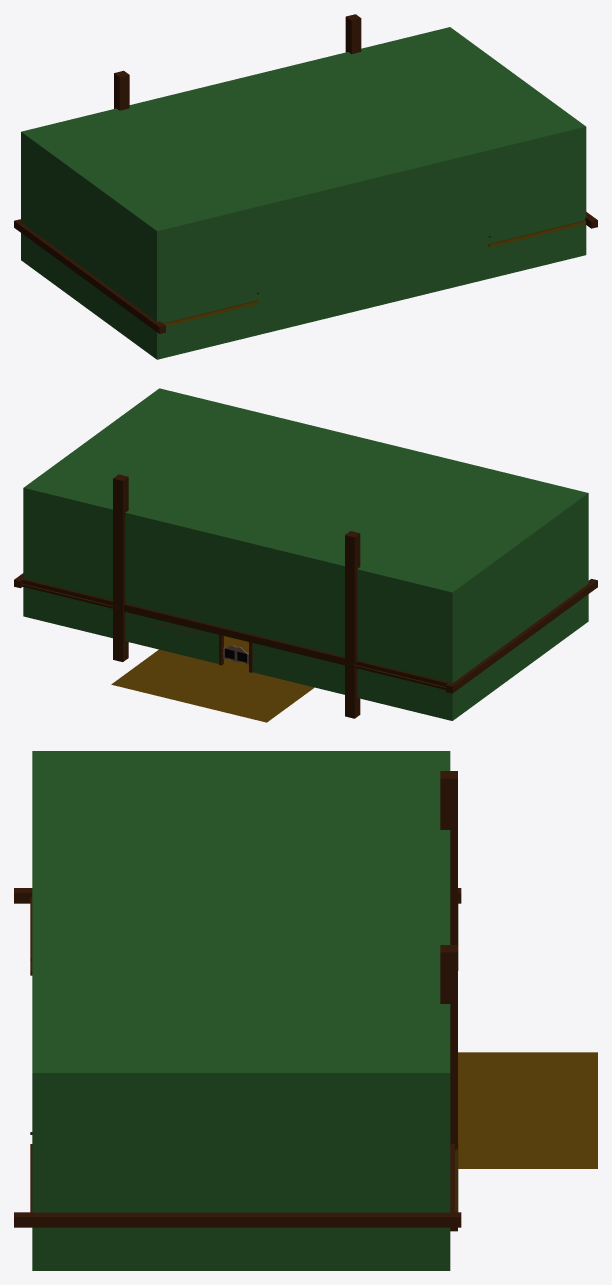
File: Auction Hall.fbx
3 views of the same model, one above another, from view 1: azimuth 30°, elevation 25°; view 2: azimuth 150°, elevation 25°; view 3: azimuth 270°, elevation 25° (orthographic). The views are drawn at different scales.
Visible parts, largest first — view 1: Walls, Beams, Floor 2; view 2: Walls, Beams, Saloon Door; view 3: Walls, Beams, Floor 2.
Part boxes in pixels (x1=…): Walls: x1=21, y1=27, x2=586, y2=359; Beams: x1=14, y1=14, x2=597, y2=333; Floor 2: x1=163, y1=220, x2=585, y2=326; Walls: x1=23, y1=388, x2=588, y2=722; Beams: x1=14, y1=474, x2=597, y2=718; Saloon Door: x1=219, y1=635, x2=252, y2=672; Walls: x1=32, y1=751, x2=597, y2=1270; Beams: x1=14, y1=771, x2=461, y2=1231; Floor 2: x1=30, y1=897, x2=458, y2=1212.
Bounding box in the file's own units: 3724 × 1471 × 2793.
